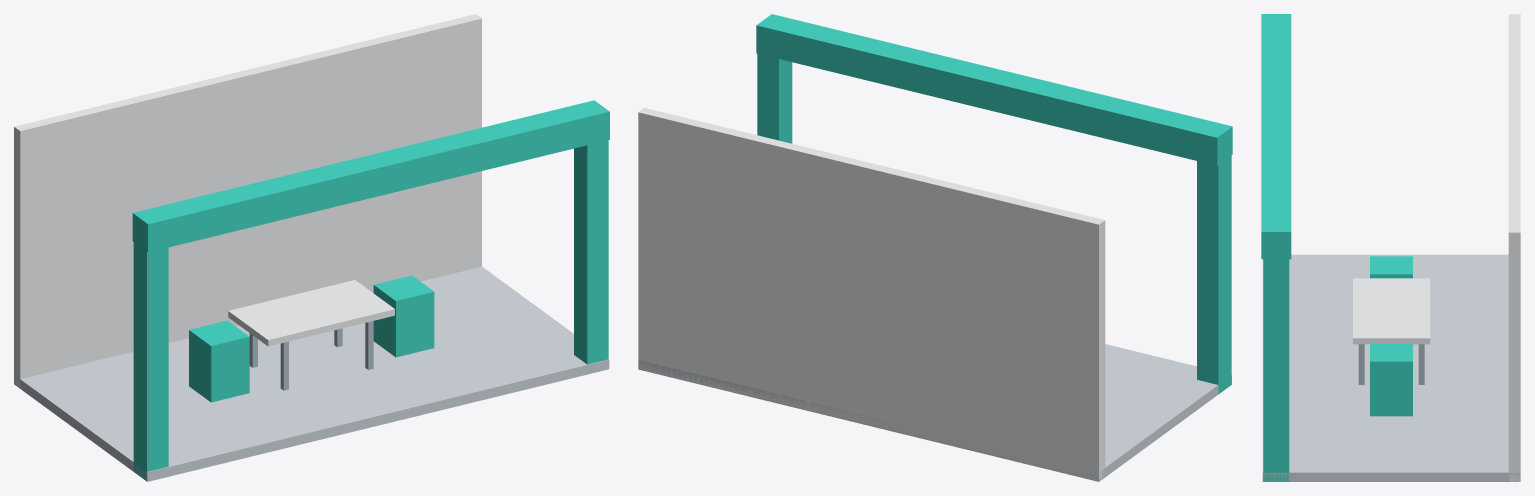
3 renders of one model, left to right at view 1: azimuth 30°, elevation 25°; view 2: azimuth 150°, elevation 25°; view 3: azimuth 270°, elevation 25°, orthographic. The views are drawn at different scales.
Visible parts, largest first — view 1: Exhibition Booth Concept; view 2: Exhibition Booth Concept; view 3: Exhibition Booth Concept.
Part boxes in pixels (x1,y1,x2,y2): Exhibition Booth Concept: (14, 14, 609, 481); Exhibition Booth Concept: (638, 14, 1232, 481); Exhibition Booth Concept: (1261, 14, 1520, 481).
Bounding box in the file's own units: 6 × 3.2 × 3.01.
